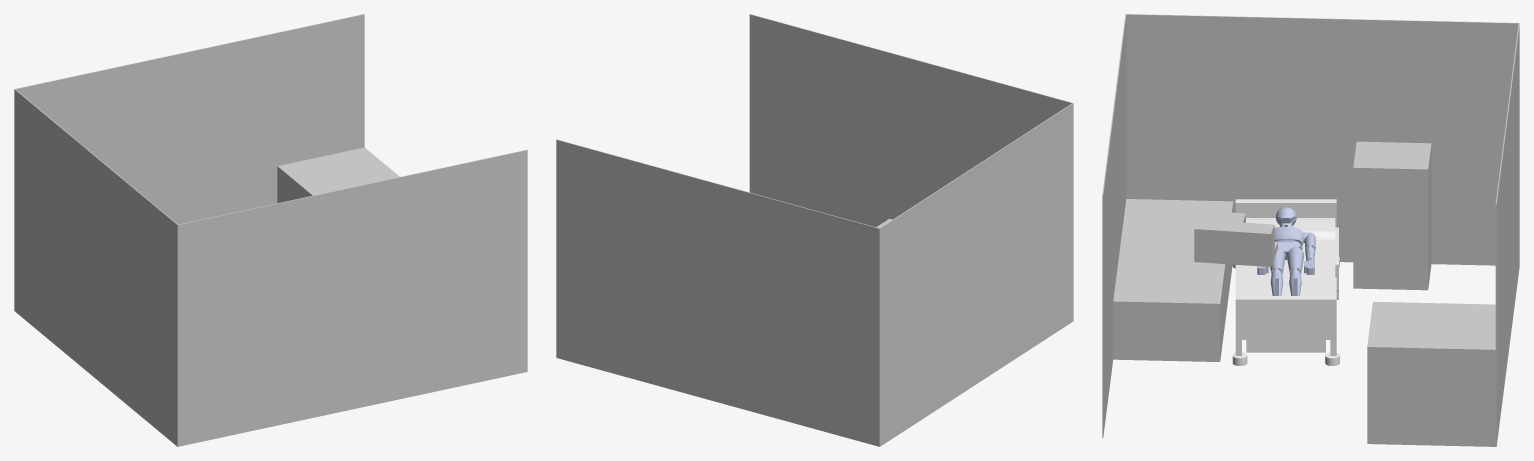
The model's file is bed_and_environment_henry_rounded.dae.
3 renders of one model, left to right at view 1: azimuth 30°, elevation 25°; view 2: azimuth 150°, elevation 25°; view 3: azimuth 270°, elevation 25°, orthographic. The views are drawn at different scales.
Visible parts, largest first — view 1: autobed/wall_link; view 2: autobed/wall_link; view 3: autobed/wall_link, autobed/bed_frame_link, autobed/leg_rest_lower, autobed/head_rest_link, autobed/leg_rest_upper.
Boxes of the visible parts, <box> form: autobed/wall_link: <box>14,14,527,446</box>; autobed/wall_link: <box>556,14,1073,446</box>; autobed/wall_link: <box>1102,14,1519,446</box>; autobed/bed_frame_link: <box>1235,199,1336,355</box>; autobed/leg_rest_lower: <box>1237,278,1335,295</box>; autobed/head_rest_link: <box>1246,218,1338,299</box>; autobed/leg_rest_upper: <box>1237,261,1335,278</box>.
Bounding box in the file's own units: 4.2 × 3.9 × 2.5.
